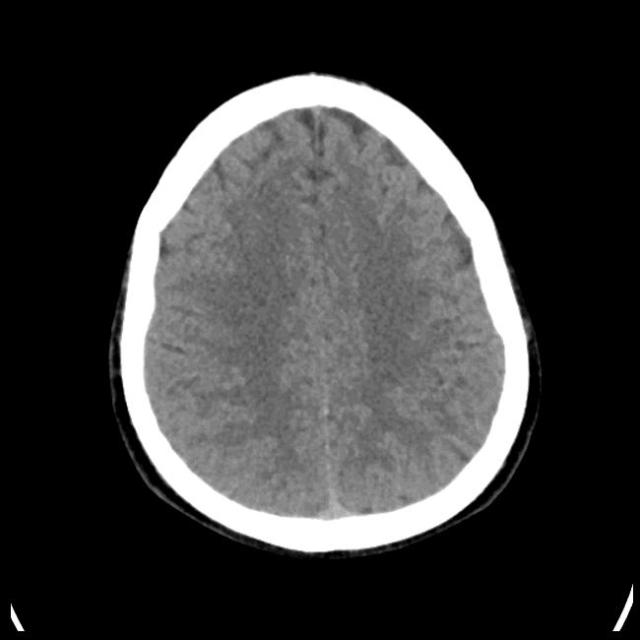lesion: (108, 71, 540, 557)
